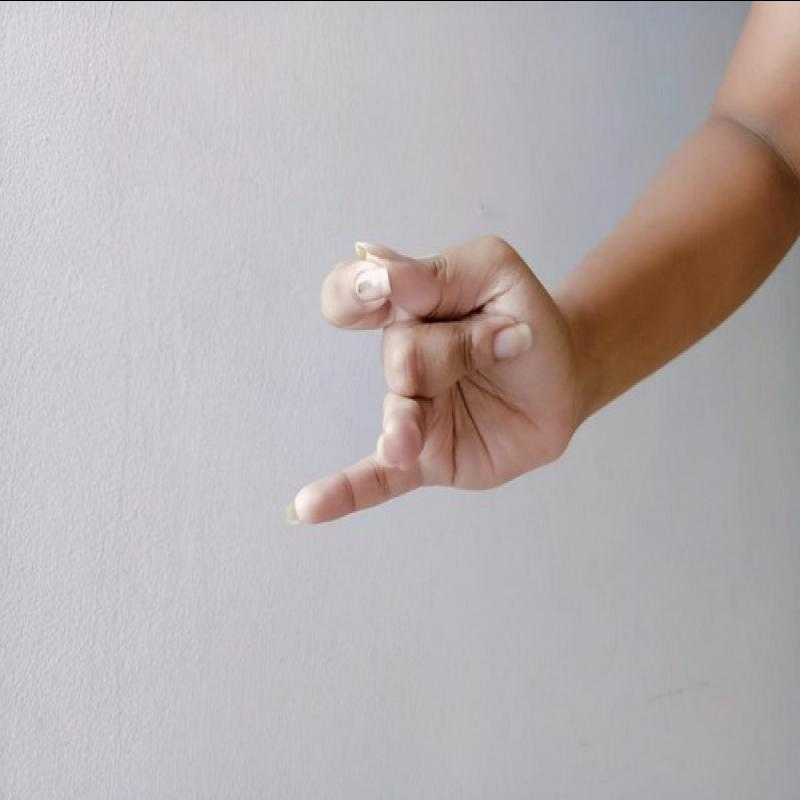Katakam: (251, 209, 588, 551)
